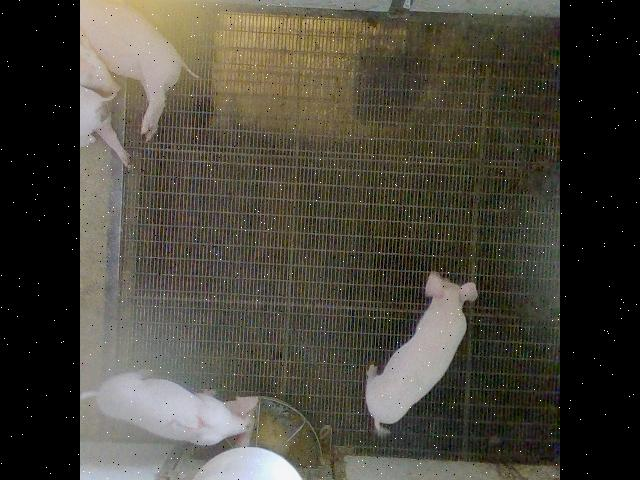pig-5: (82, 371, 259, 445)
